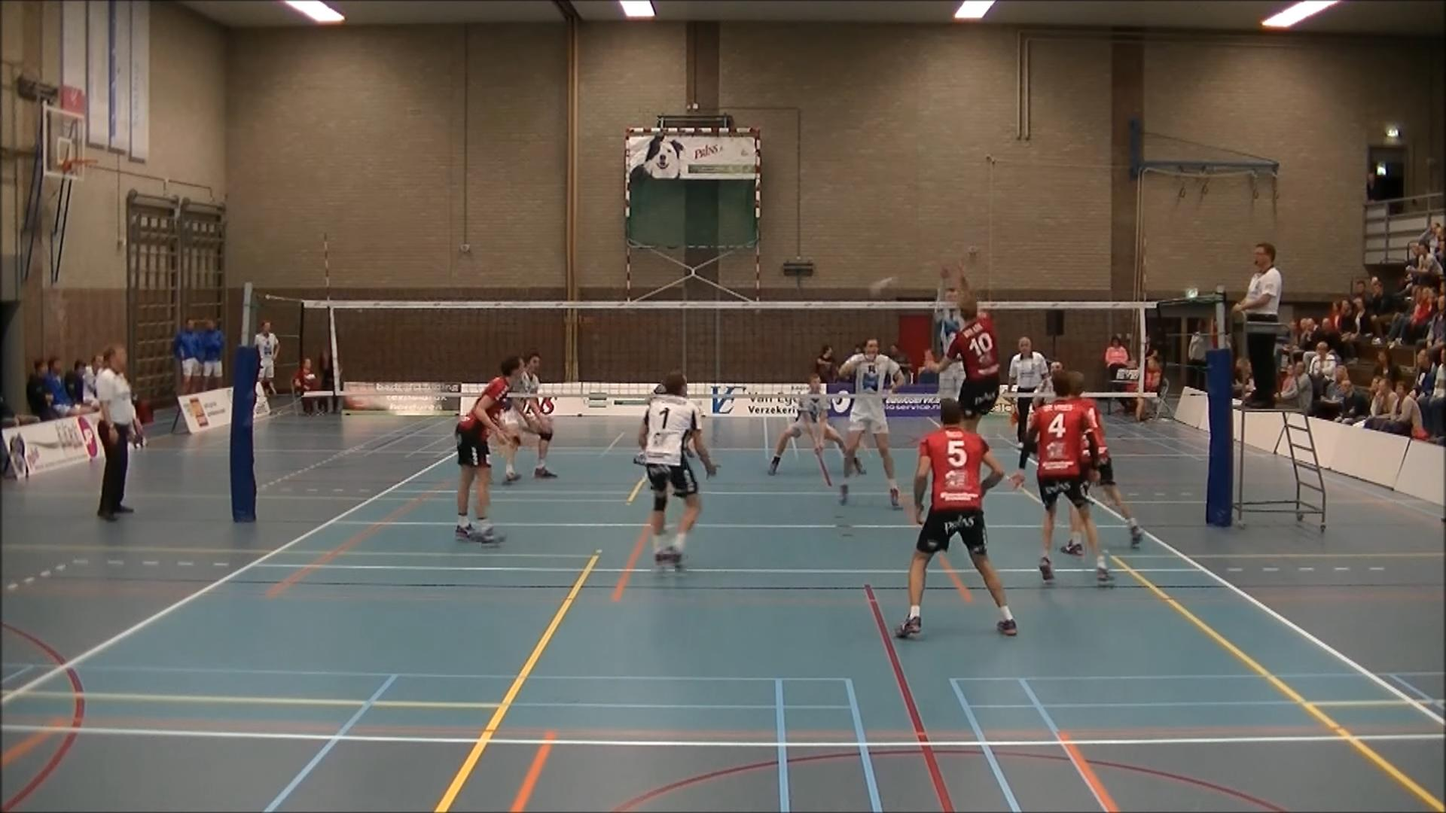attacco: (928, 268, 1008, 471)
muro: (931, 261, 984, 411)
